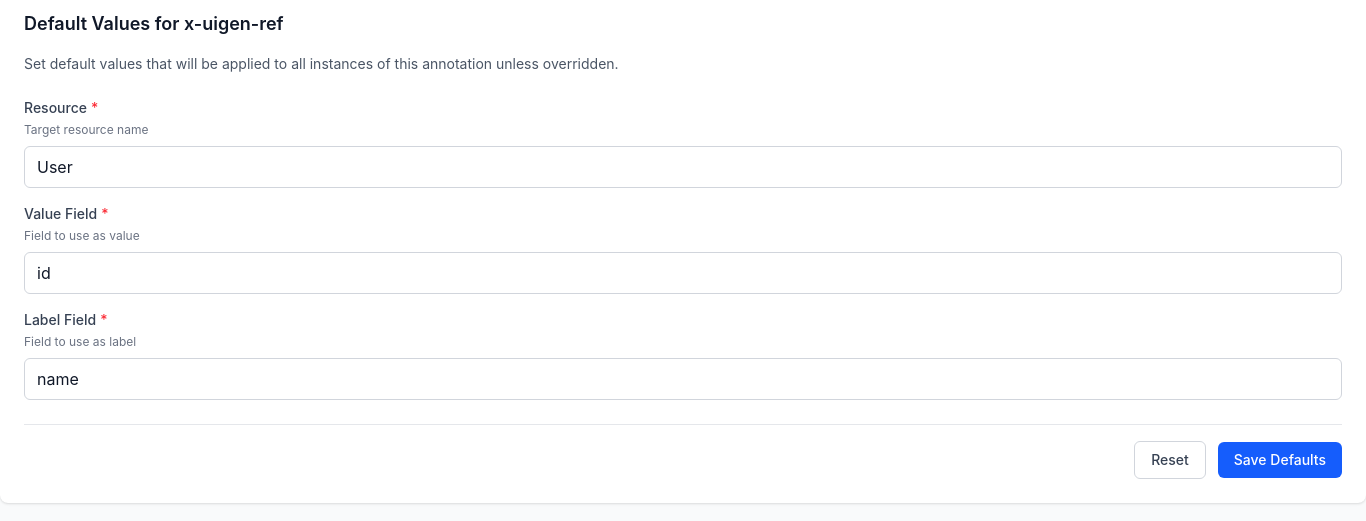
Test: AnnotationForm › Reset Functionality › should reset form to config defaults
Change a value
Replace the text in the field labelled "Resource*" with "Role" at (683, 167), box [24, 146, 1342, 188]
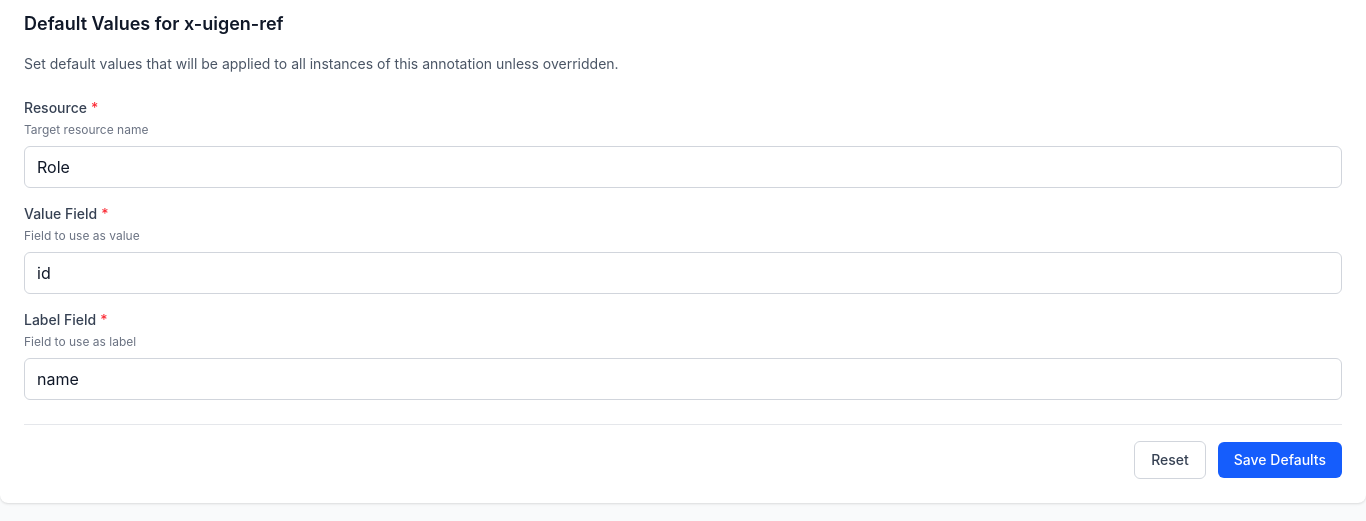
Reset form
Click the button "Reset" at (1170, 460), box [1134, 441, 1206, 479]
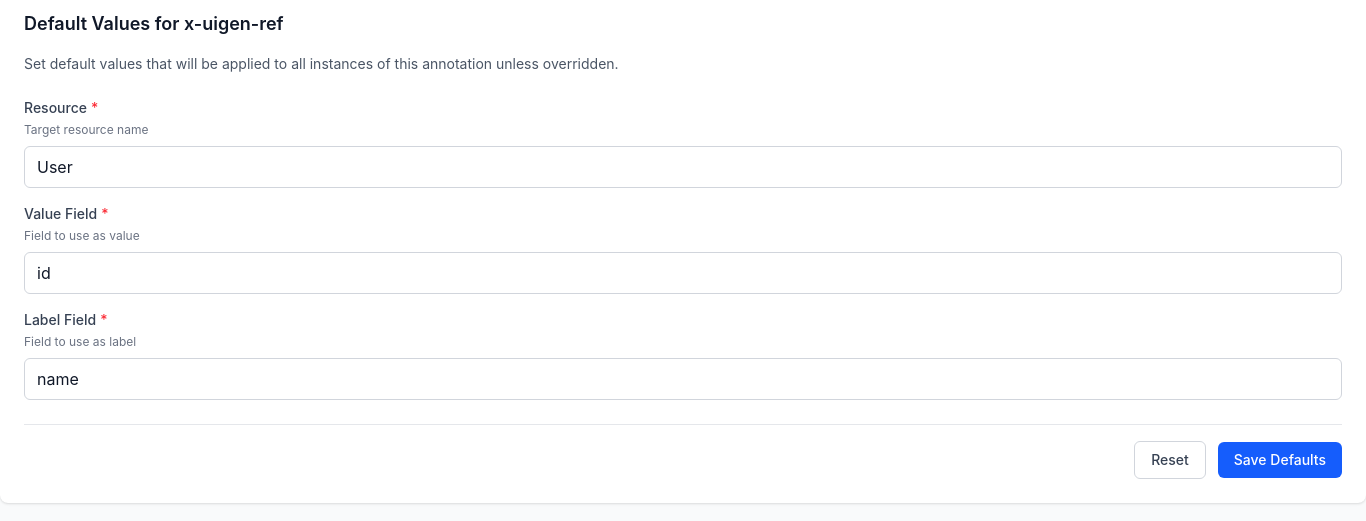
Expected: the field labelled "Resource*" holds "User", [24, 146, 1342, 188]
